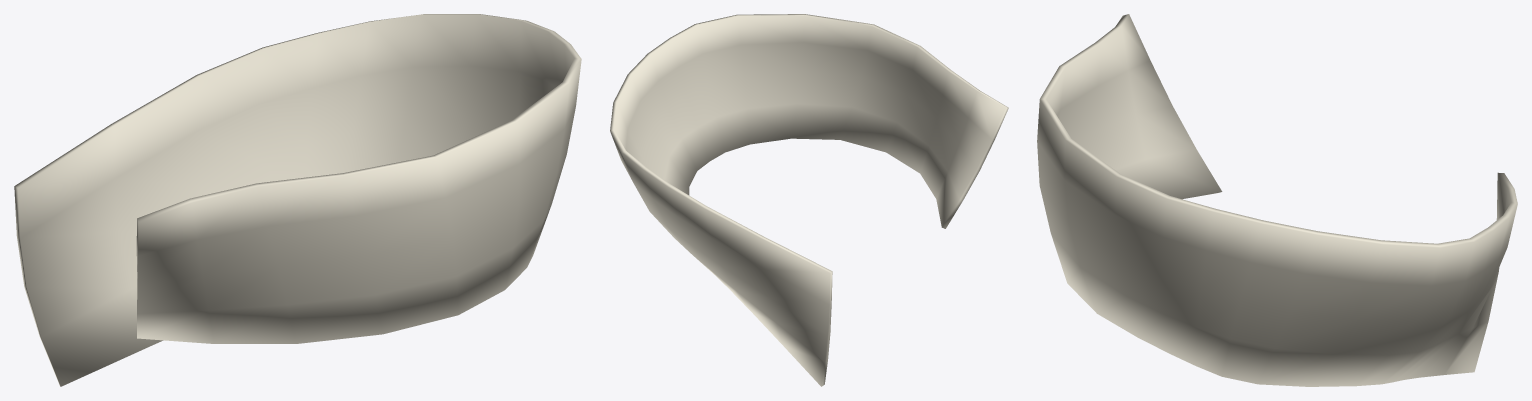
3 views of the same model, side by side, from view 1: azimuth 30°, elevation 25°; view 2: azimuth 150°, elevation 25°; view 3: azimuth 270°, elevation 25° (orthographic). The views are drawn at different scales.
Visible parts, largest first — view 1: ZA_f90c2966bbc1e217; view 2: ZA_f90c2966bbc1e217; view 3: ZA_f90c2966bbc1e217.
Part boxes in pixels (x1,y1,x2,y2): ZA_f90c2966bbc1e217: (14,14,581,386); ZA_f90c2966bbc1e217: (610,14,1008,386); ZA_f90c2966bbc1e217: (1037,14,1517,386).
Bounding box in the file's own units: 0.0246 × 0.0174 × 0.0221.
